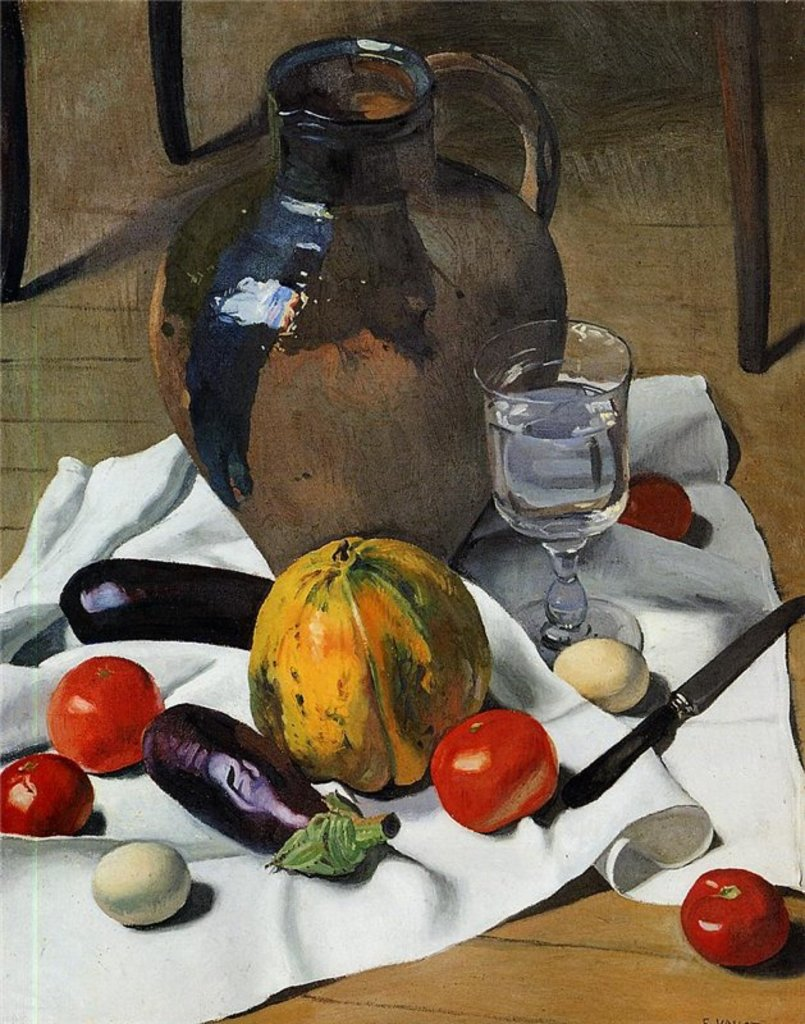Apple: (428, 711, 569, 839)
